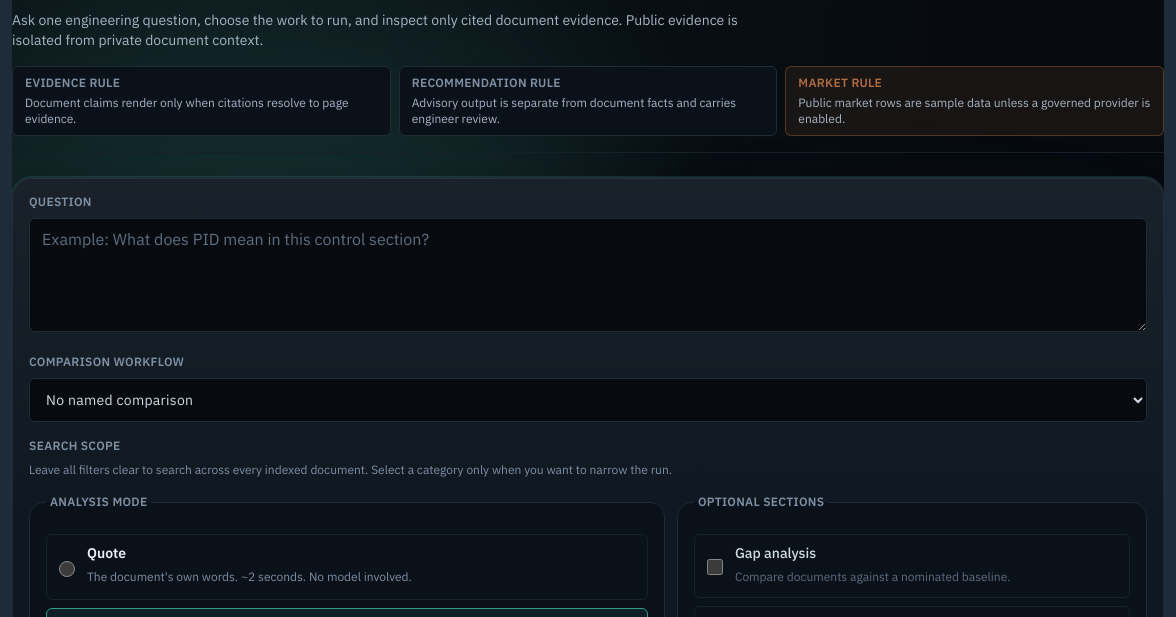
Test: AnalysisModeScreen: a run whose job rejects › clears the in-flight flag so the next run is accepted
Type "what is the pressure floor" into the text box labelled "Question" at (588, 275), box [29,218,1147,332]
(page scrolled)
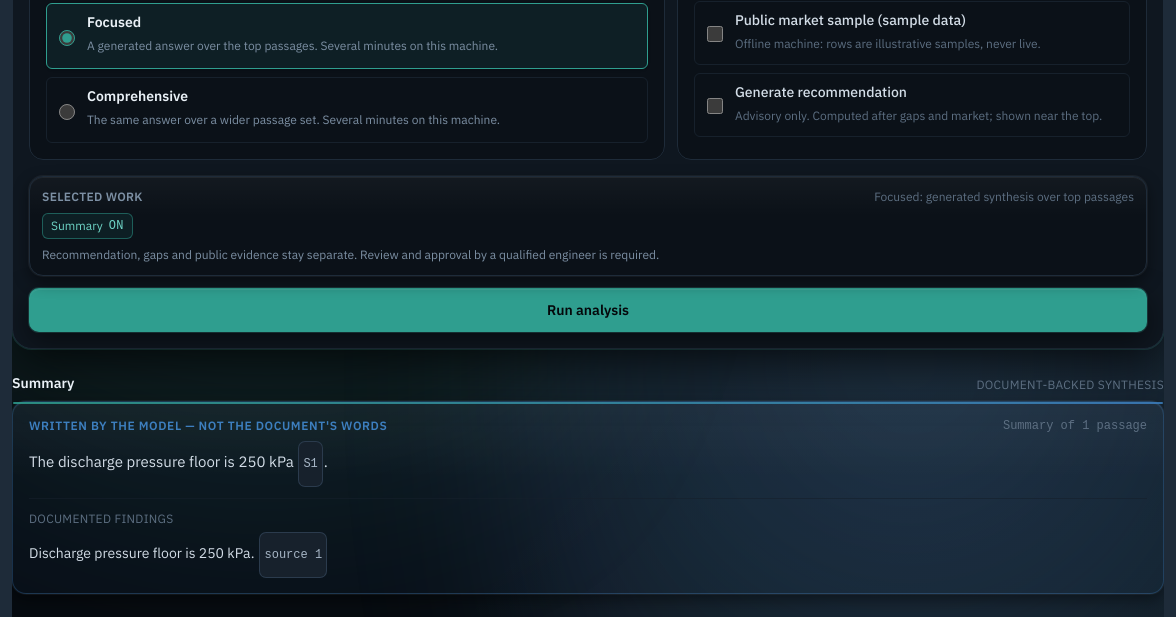
Expected: the button "Run analysis" is enabled, [29,288,1147,332]
